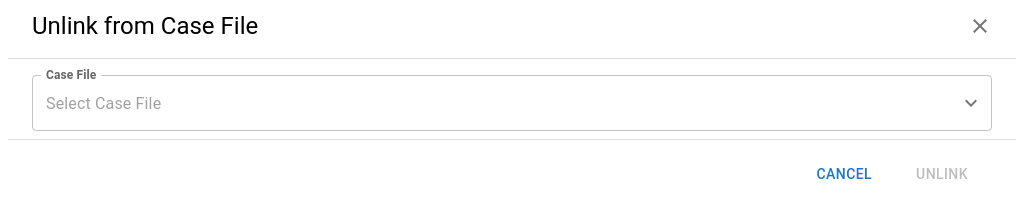
LinkCaseFileModal Component › shows only linked files in unlink mode
# Open dropdown
Click the dropdown named "caseFile" at (497, 103), box x1=41 y1=84 x2=953 y2=122
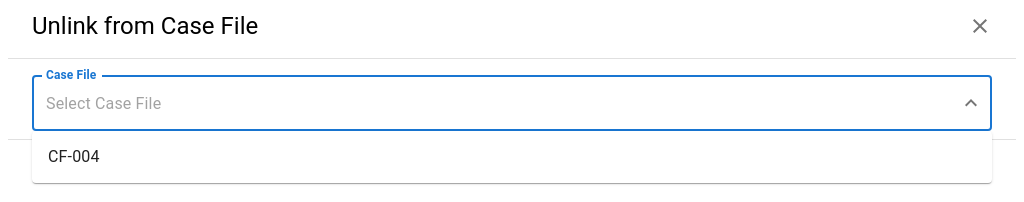
Now the text "CF-004" is shown, box x1=48 y1=145 x2=100 y2=169
